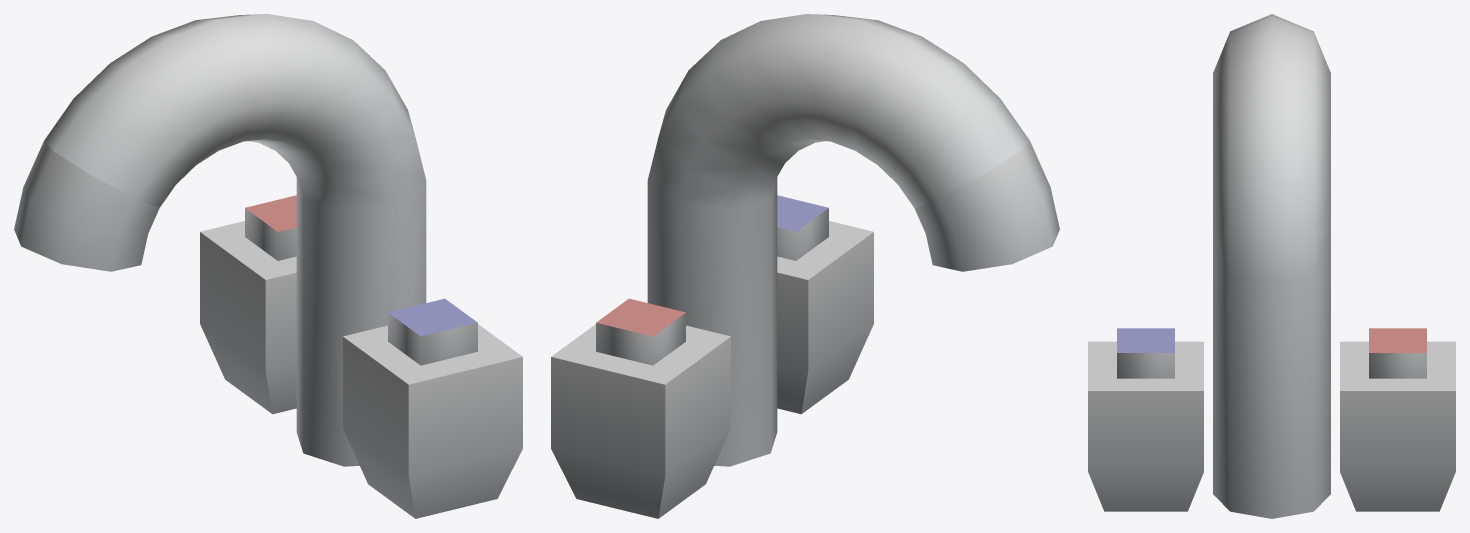
File: tap-basic-straight.glb
3 renders of one model, left to right at view 1: azimuth 30°, elevation 25°; view 2: azimuth 150°, elevation 25°; view 3: azimuth 270°, elevation 25°, orthographic. The views are drawn at different scales.
Parts seen in each view (by area): view 1: tap-basic-straight; view 2: tap-basic-straight; view 3: tap-basic-straight.
Part boxes in pixels (left/top/right/bottom): tap-basic-straight: left=14, top=14, right=522, bottom=518; tap-basic-straight: left=551, top=14, right=1059, bottom=518; tap-basic-straight: left=1088, top=14, right=1455, bottom=518.
Size of the model in its own units: 0.1434 by 0.1563 by 0.1303.
